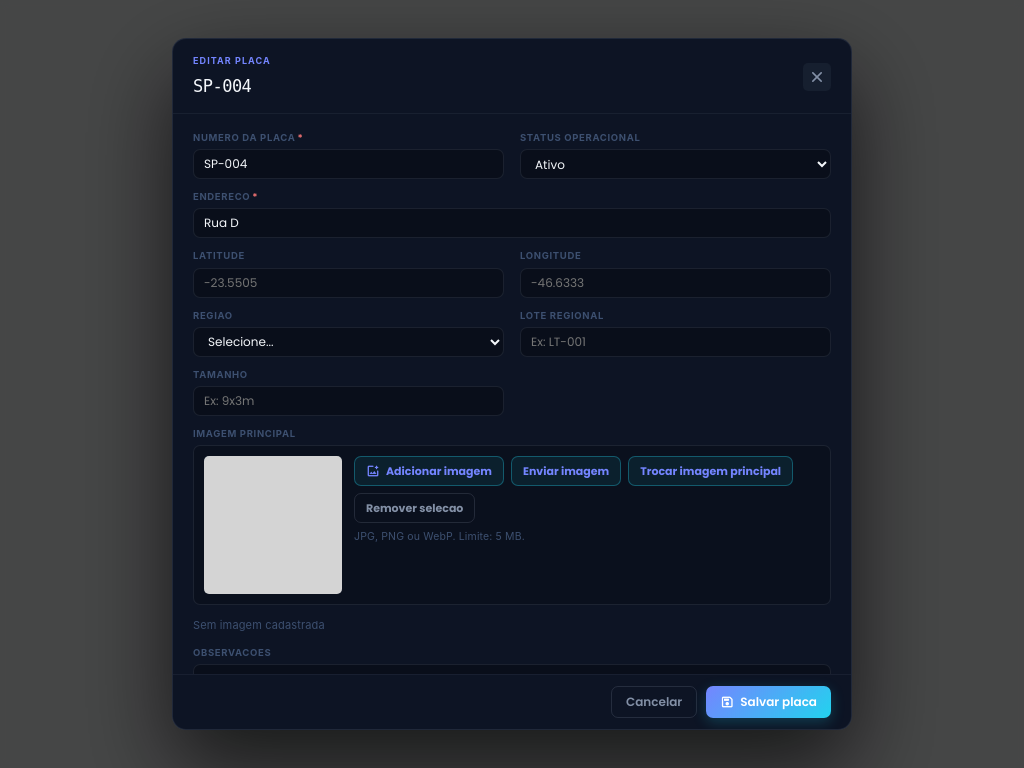
BoardEditPanel › mostra preview local antes do upload e atualiza imagem principal apos envio
The image size is (1024, 768).
Earlier steps of the test are not shown.
Click the button "Trocar imagem principal": (711, 471) x1=628 y1=456 x2=793 y2=486
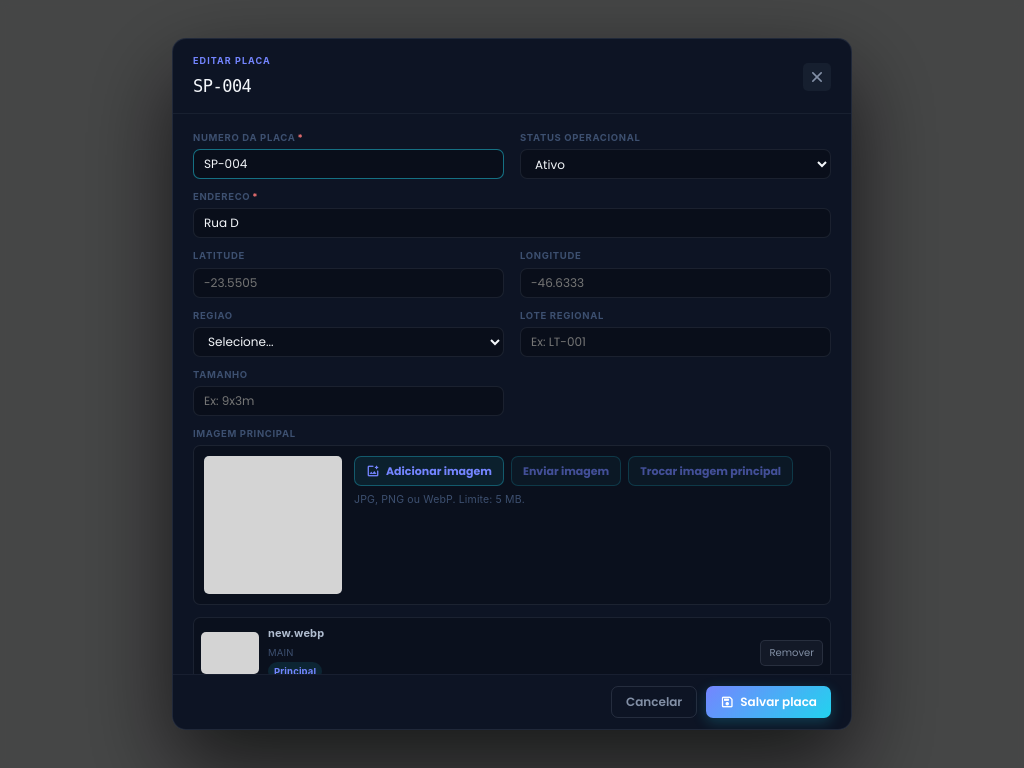
Now the text "new.webp" is shown, box x1=268 y1=626 x2=324 y2=640
